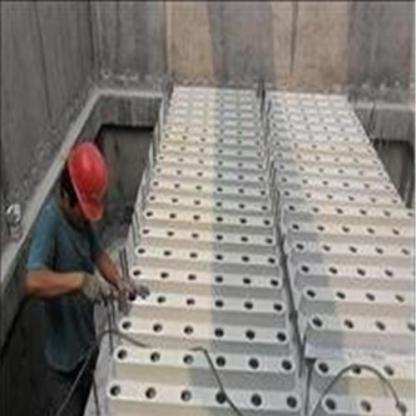helmet: (59, 144, 110, 225)
